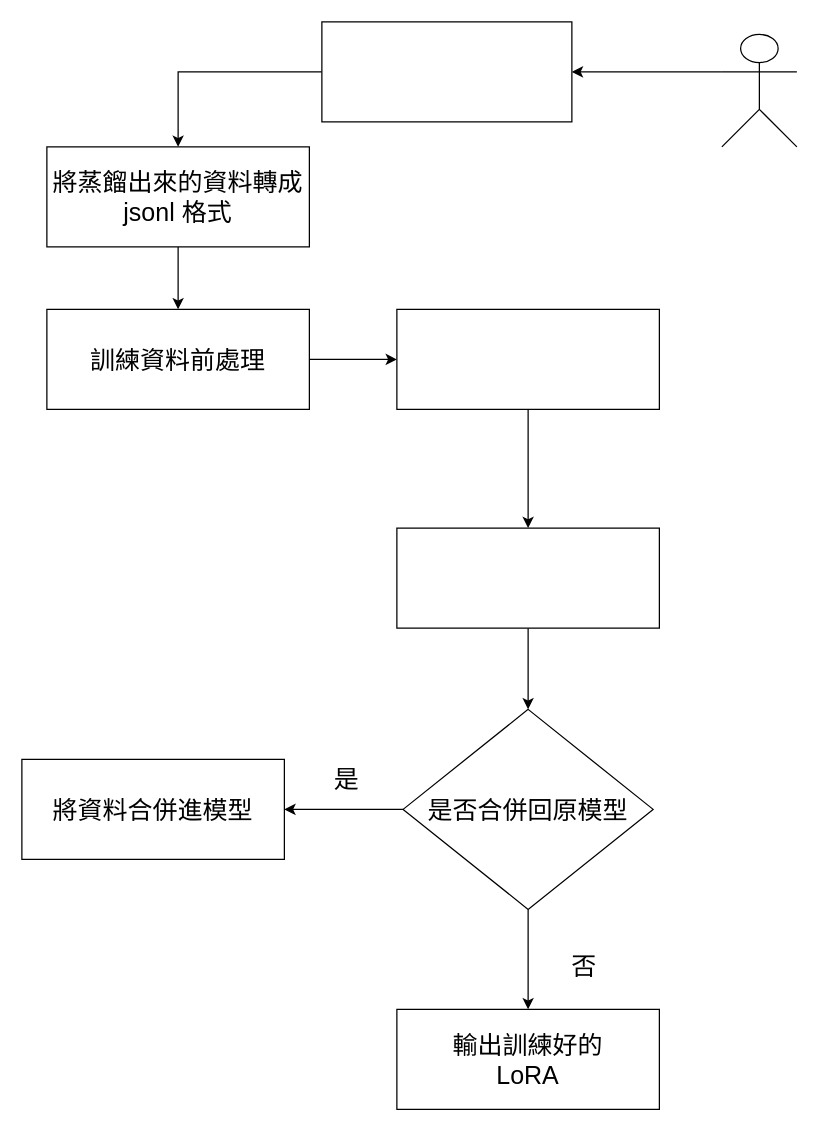
Some shapes in this 819 by 1131 pixel diagram are drawn without their labels. Here are the shapes that lost their labels. From the top down, the centre of each, then its label:
[446,71]: 輸入 Prompt 從教師模型蒸餾資料
[527,358]: 載入學生模型
[527,577]: 輸入資料開始訓練
